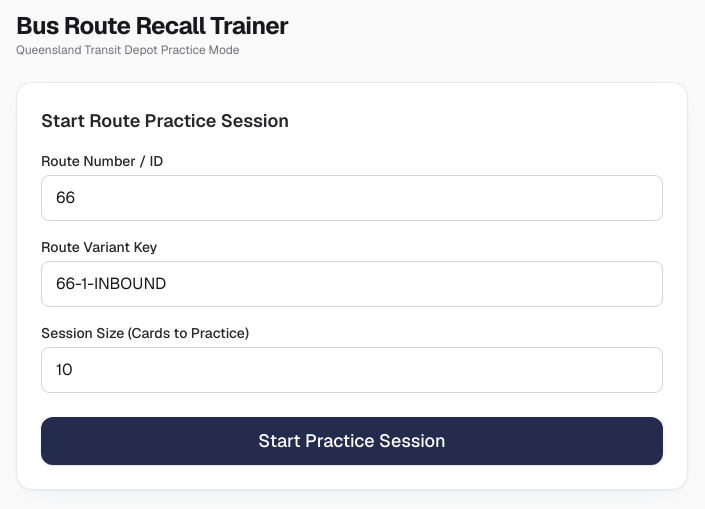
Change 10 Phase 10.3: RecallPracticePage View States & UX Acceptance › 5. NO_CARDS_AVAILABLE: handles empty card queue gracefully
Click the button "Start Practice Session": (352, 441) [41,417,663,465]
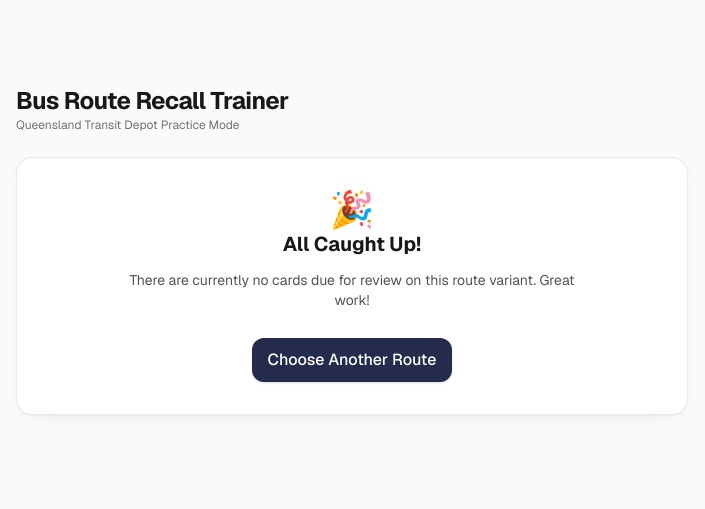
Expected: the heading "All Caught Up!" is shown, [283,231,421,257]
Expected: the button "Choose Another Route" is shown, [252,338,452,382]
